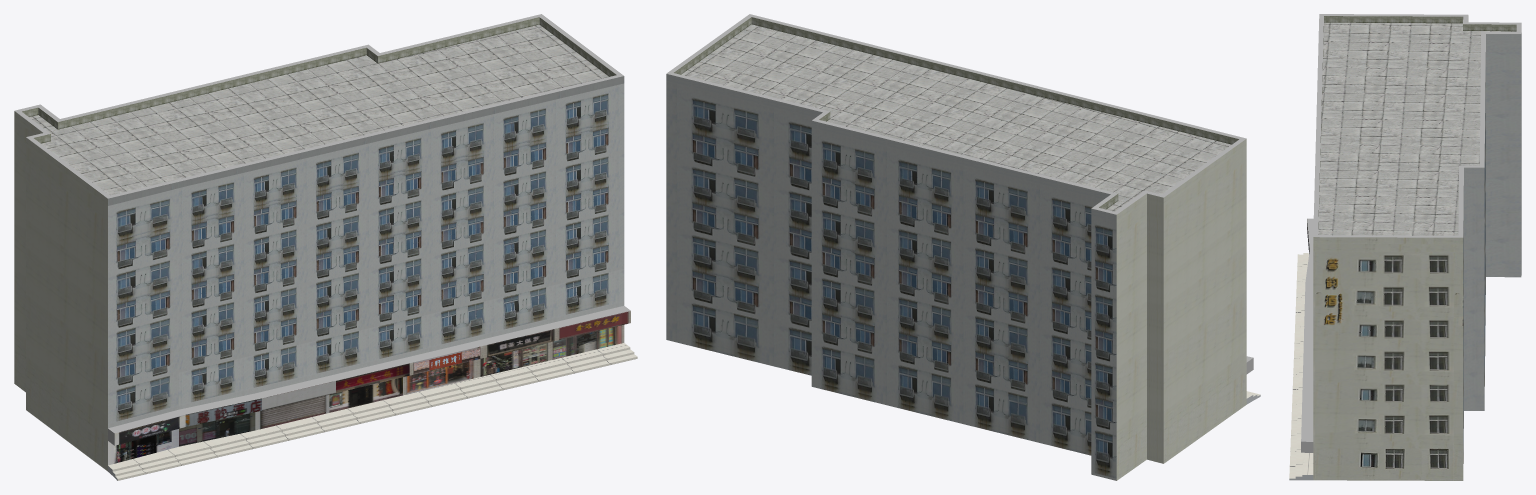
3 views of the same model, side by side, from view 1: azimuth 30°, elevation 25°; view 2: azimuth 150°, elevation 25°; view 3: azimuth 270°, elevation 25° (orthographic). The views are drawn at different scales.
Parts seen in each view (by area): view 1: jz6; view 2: jz6; view 3: jz6.
Part boxes in pixels (bbox=[...]): jz6: bbox=[14, 14, 637, 480]; jz6: bbox=[666, 14, 1260, 480]; jz6: bbox=[1289, 14, 1521, 480].
Size of the model in its own units: 4380 by 2210 by 1913.
Materials: 16 (16 with a texture image).
